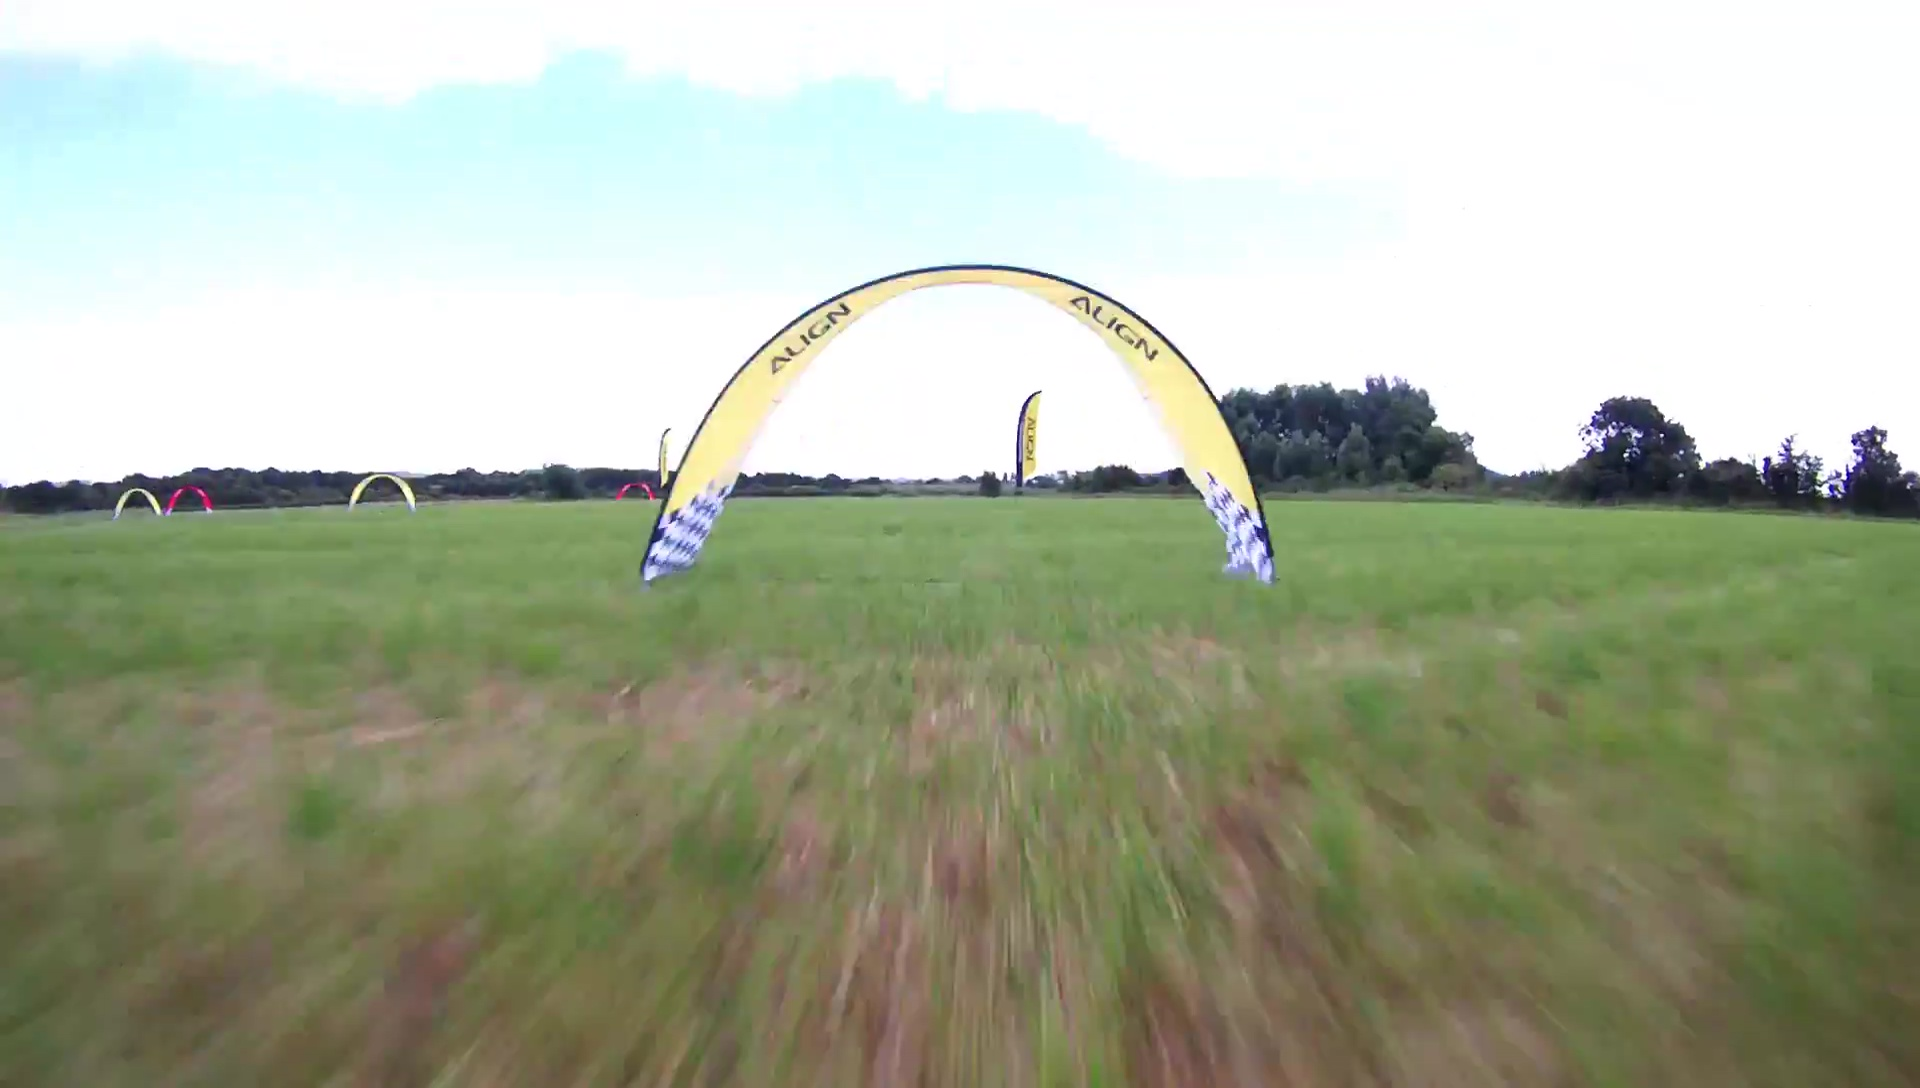gate: (640, 260, 1284, 583), (347, 476, 419, 514), (108, 483, 164, 520), (162, 485, 216, 516)
